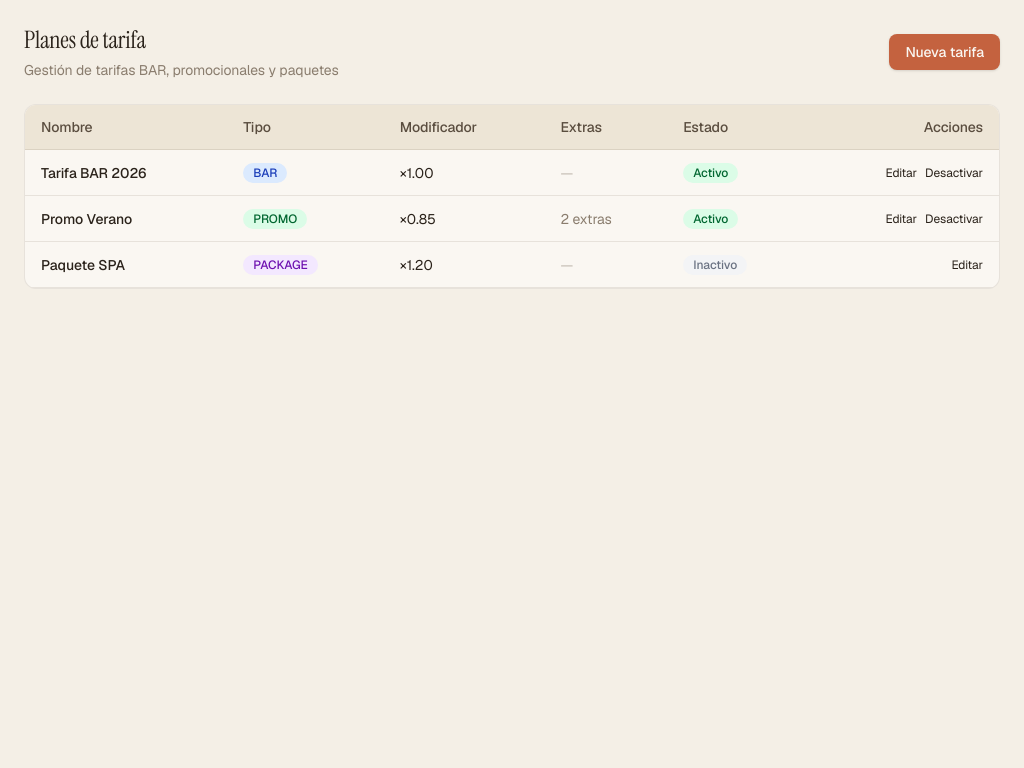
Scenario: RatePlansPage › "Nueva tarifa" button opens the drawer
Expected: the text "Tarifa BAR 2026" is shown, [25,150,227,196]
Click the button "Nueva tarifa": {"x": 945, "y": 52} [889,34,1000,70]
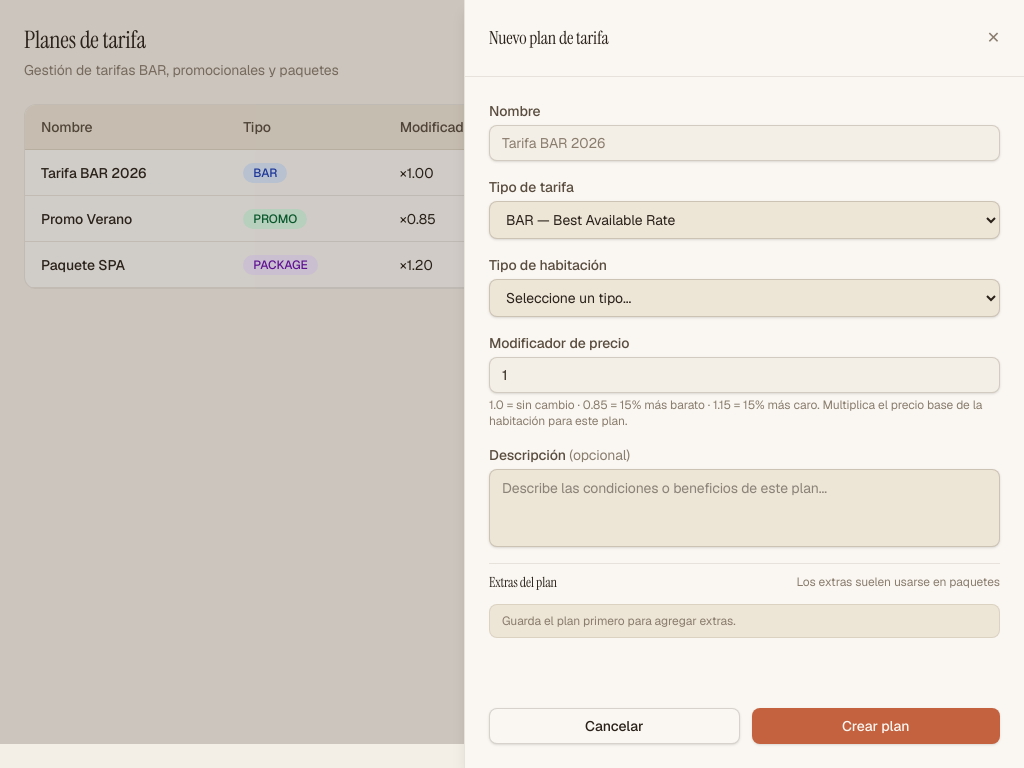
Expected: the dialog is shown, [464,0,1023,767]
